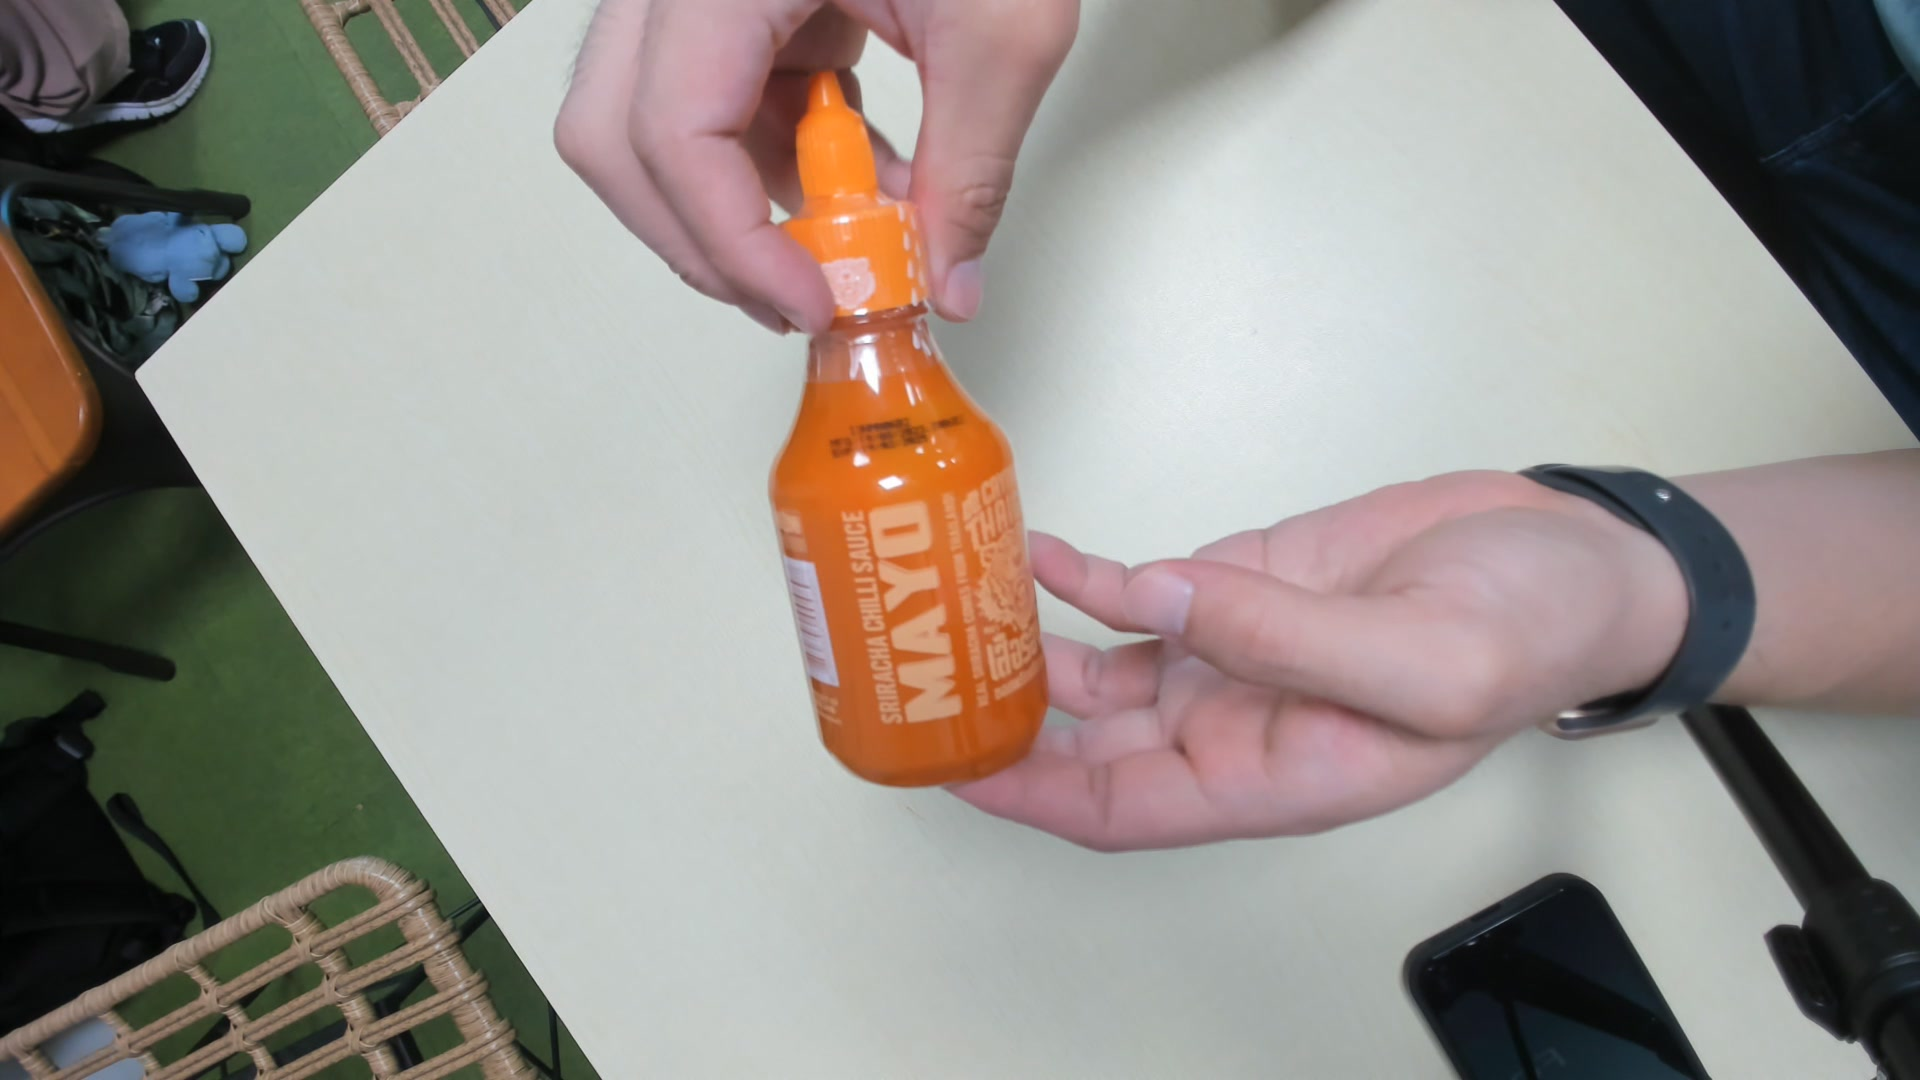OtherSauceDressing_200-299g_NonHalal_NonHealthy: (769, 73, 1047, 793)
